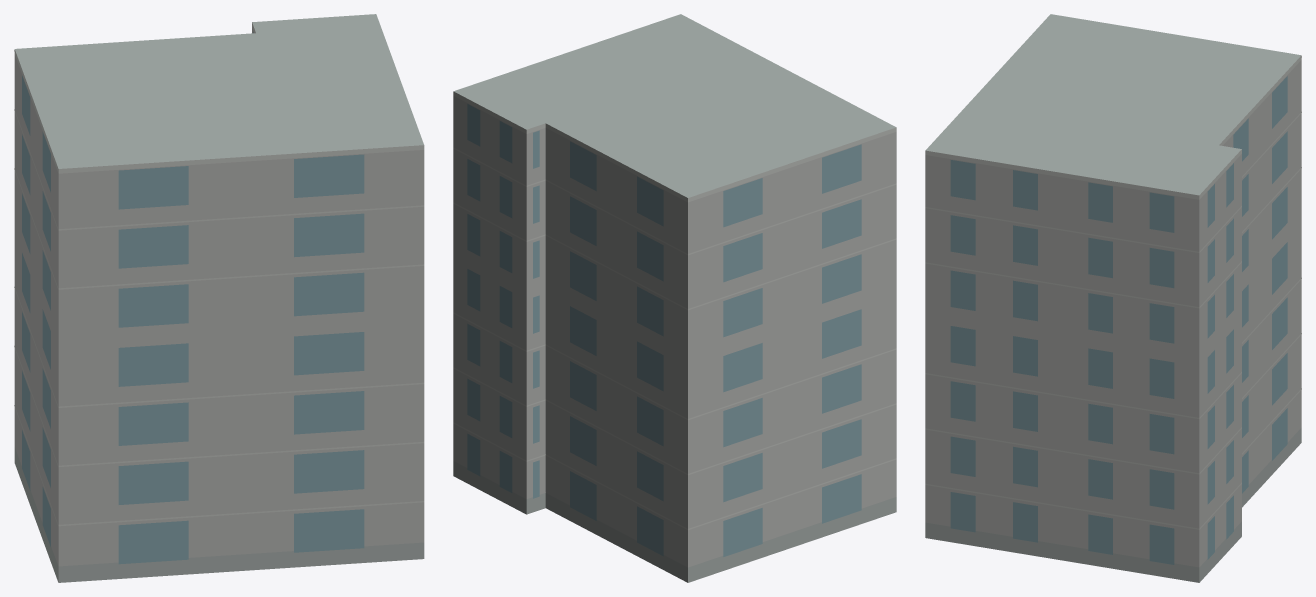
The model's file is residential-ad0789de-d240-4454-83ba-d7633c5de366.glb.
3 views of the same model, side by side, from view 1: azimuth 30°, elevation 25°; view 2: azimuth 150°, elevation 25°; view 3: azimuth 270°, elevation 25° (orthographic). The views are drawn at different scales.
Parts seen in each view (by area): view 1: residential-ad0789de-d240-4454-83ba-d7633c5de366.tmp; view 2: residential-ad0789de-d240-4454-83ba-d7633c5de366.tmp; view 3: residential-ad0789de-d240-4454-83ba-d7633c5de366.tmp.
Part boxes in pixels (x1,y1,x2,y2): residential-ad0789de-d240-4454-83ba-d7633c5de366.tmp: (14,14,424,582); residential-ad0789de-d240-4454-83ba-d7633c5de366.tmp: (453,14,896,582); residential-ad0789de-d240-4454-83ba-d7633c5de366.tmp: (925,14,1301,582).
Bounding box in the file's own units: 21.47 × 21.35 × 18.82.
